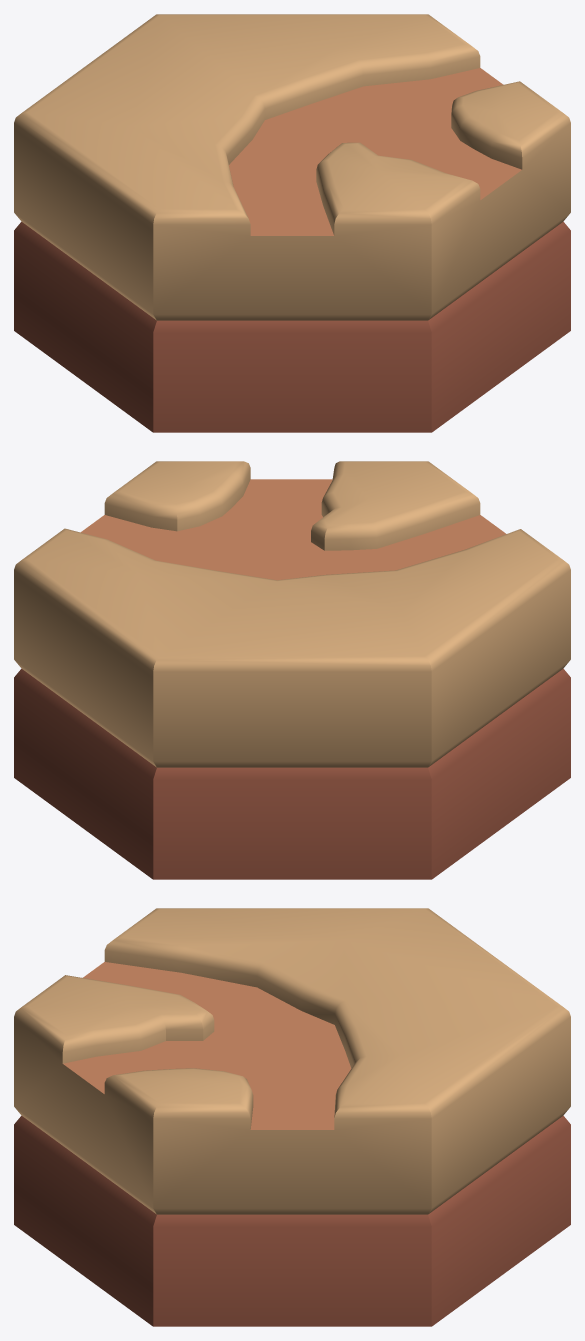
File: hex_sand_roadH_detail.glb
3 renders of one model, top to bottom at view 1: azimuth 30°, elevation 25°; view 2: azimuth 150°, elevation 25°; view 3: azimuth 270°, elevation 25°, orthographic.
Visible parts, largest first — view 1: hex_sand_roadH_detail; view 2: hex_sand_roadH_detail; view 3: hex_sand_roadH_detail.
Part boxes in pixels (<box>): hex_sand_roadH_detail: <box>14,14,570,432</box>; hex_sand_roadH_detail: <box>14,461,570,879</box>; hex_sand_roadH_detail: <box>14,908,570,1326</box>.
Size of the model in its own units: 2 by 1 by 2.31.
